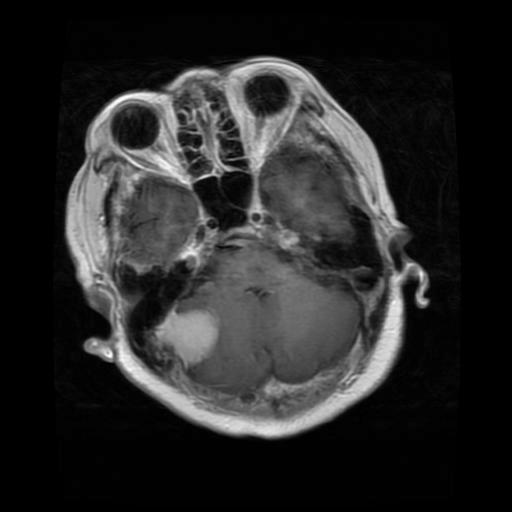Tumour-Pituitary: (133, 297, 250, 385)
